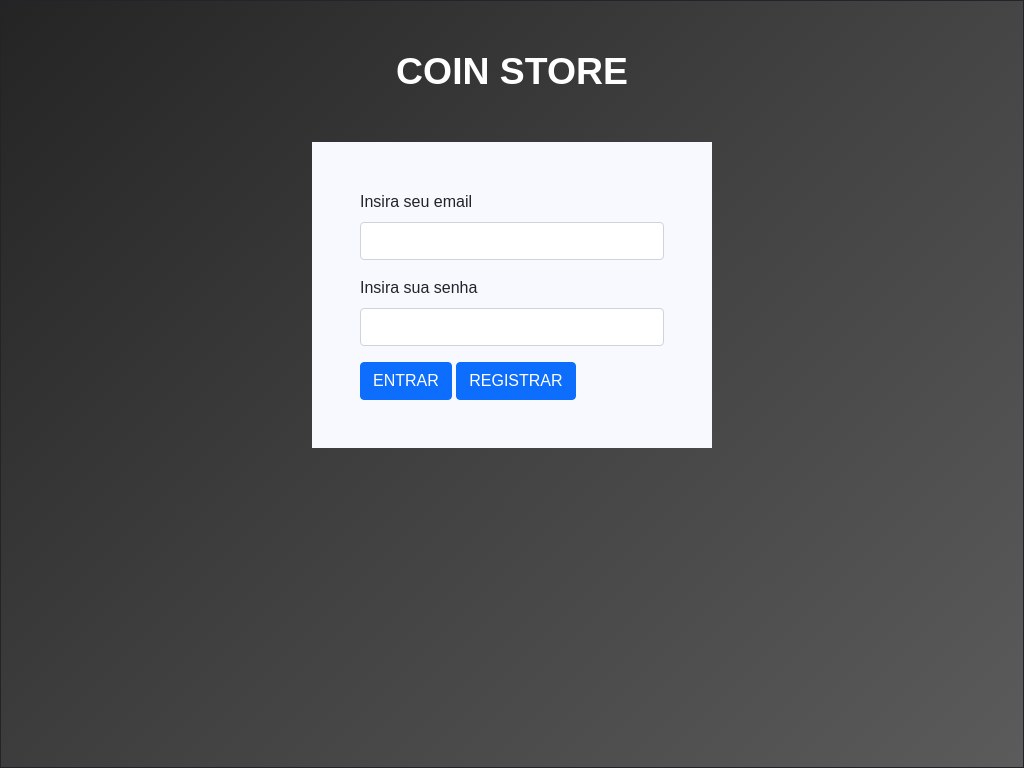
Test: Componente de "Login" › Se não preencher os campos recebe um erro
Click the button with test id "button-login" at (406, 381), box [360,362,452,400]
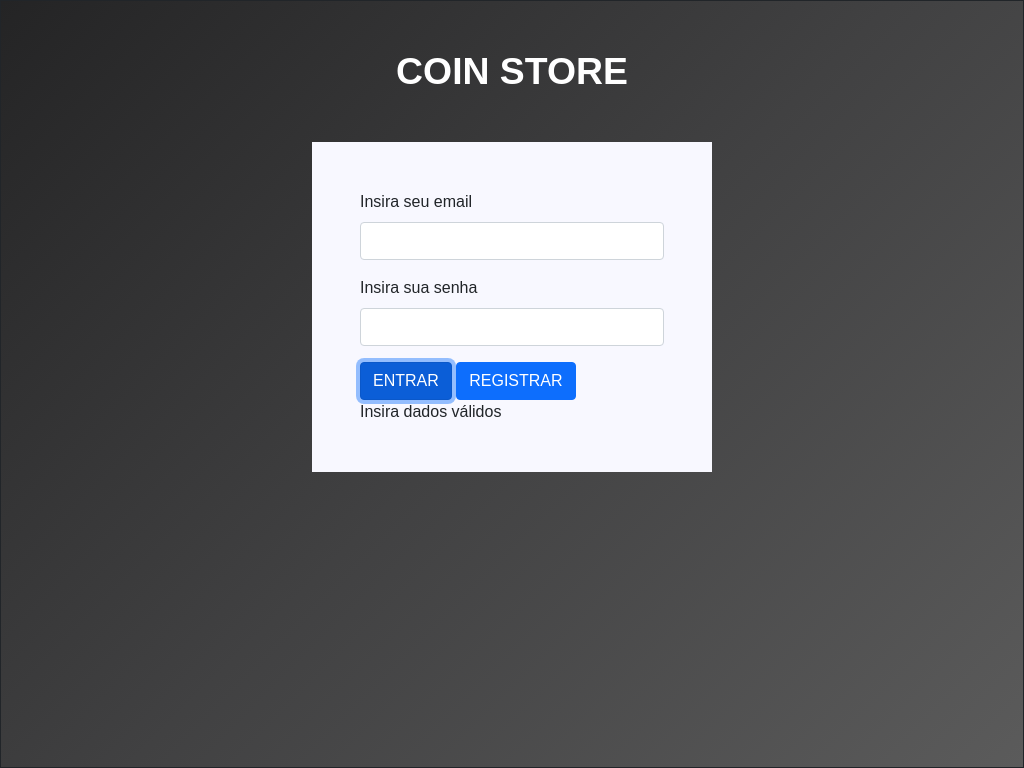
Check: the text "Insira dados válidos" is shown, box [360,403,501,420]
